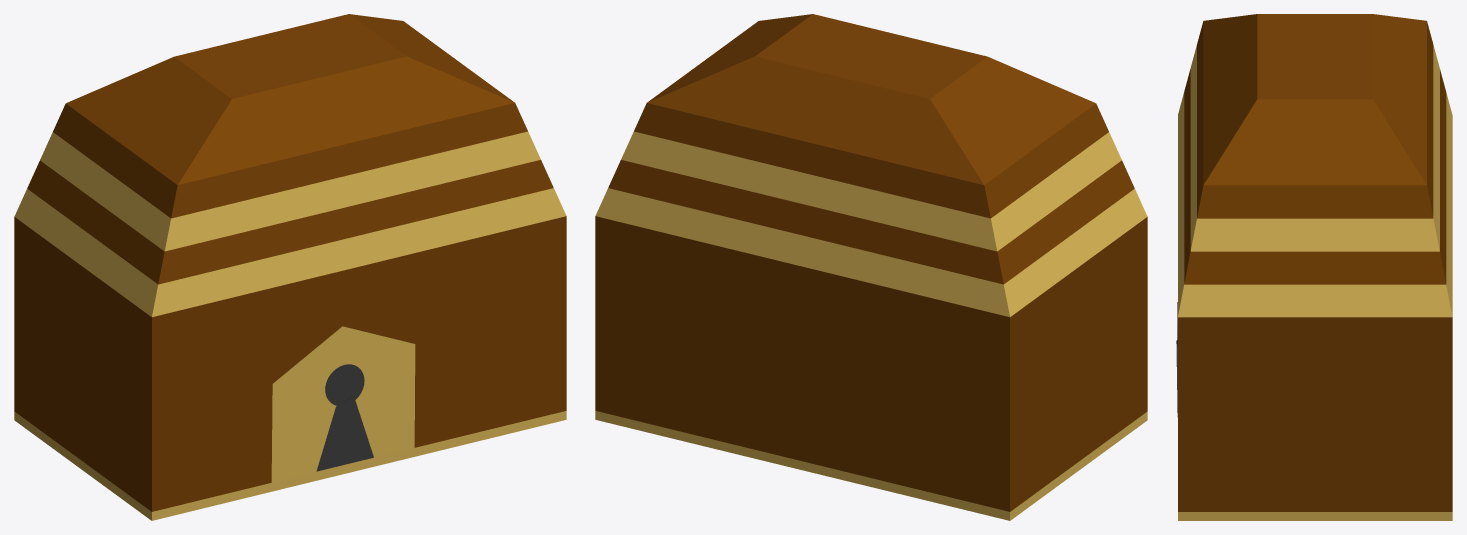
Rendered from chest_model.fbx.
3 renders of one model, left to right at view 1: azimuth 30°, elevation 25°; view 2: azimuth 150°, elevation 25°; view 3: azimuth 270°, elevation 25°, orthographic.
Visible parts, largest first — view 1: Cube_001; view 2: Cube_001; view 3: Cube_001.
Part boxes in pixels (left/top/right/bottom): Cube_001: left=14, top=14, right=566, bottom=520; Cube_001: left=595, top=14, right=1147, bottom=520; Cube_001: left=1176, top=14, right=1452, bottom=520.
Size of the model in its own units: 2.01 by 1.68 by 1.16.
